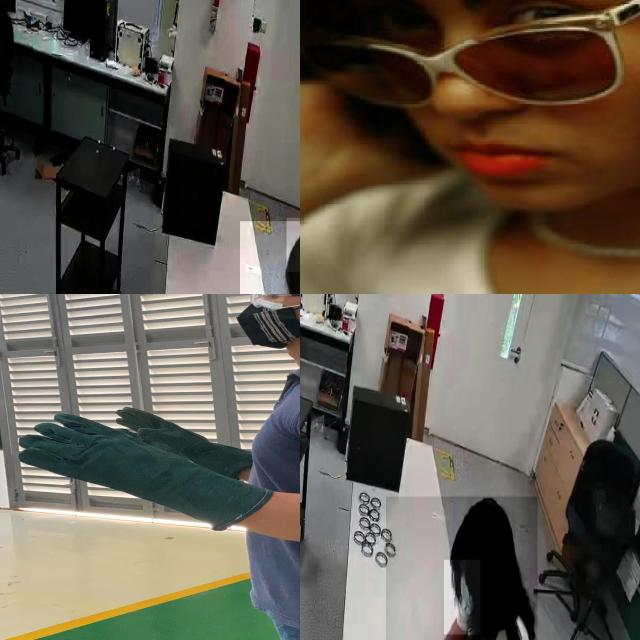face_mask: (232, 294, 300, 350), (444, 560, 480, 634)
face_nomask: (369, 0, 591, 183)
glasses: (311, 0, 640, 106), (244, 294, 300, 311)
hand_glove: (8, 412, 166, 500), (106, 402, 220, 459)
head_nohelmet: (452, 495, 516, 558), (286, 217, 300, 272)
person: (151, 294, 300, 640), (386, 496, 538, 640)
